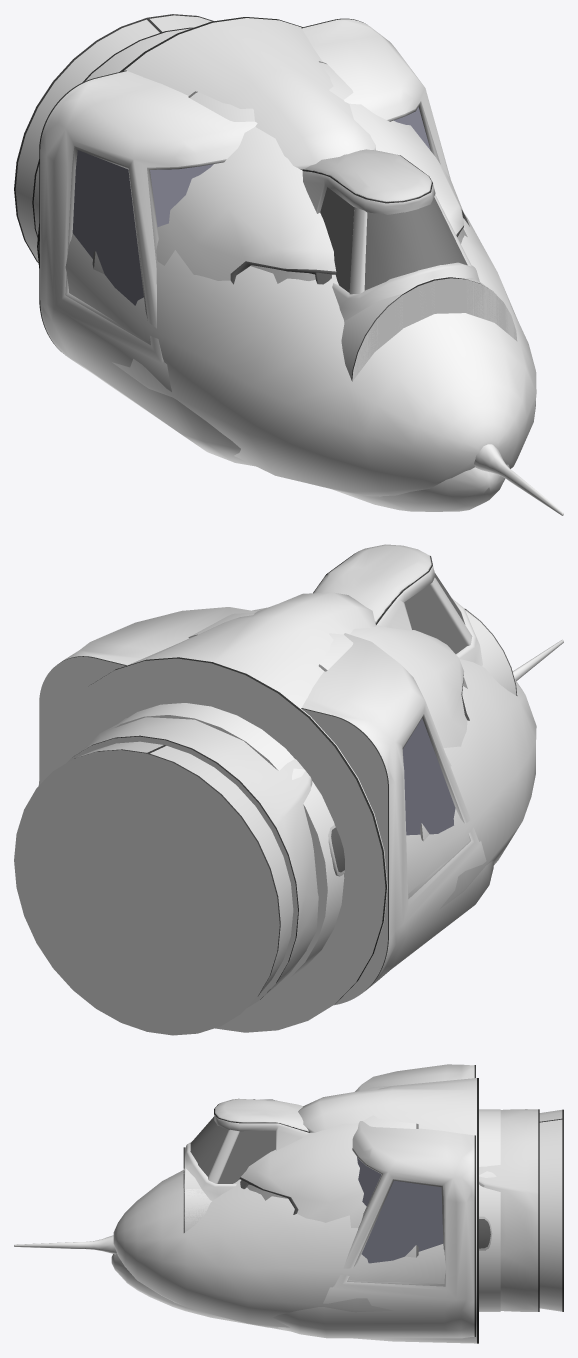
Rendered from Parts_Cockpits.glb.
3 views of the same model, one above another, from view 1: azimuth 30°, elevation 25°; view 2: azimuth 150°, elevation 25°; view 3: azimuth 270°, elevation 25° (orthographic). The views are drawn at different scales.
Visible parts, largest first — view 1: HugeCockpit__0, HelicopterCockpit__1, JetlineCockpit__2, Cockpit__0, HelicopterCockpit__0, Cockpit__1, Connector__0, HelicopterCockpit__2, SmallLargeCockpit__1, BigCockpit__1, BiplaneCockpit__0, JetCockpit02__0 (+1 smaller); view 2: Connector__0, HugeCockpit__0, HelicopterCockpit__1, BigCockpit__1, Cockpit__0, LargeBody__0, JetlineCockpit__2, HelicopterCockpit__0, Cockpit__1, BiplaneCockpit__0, HelicopterCockpit__2, HugeCockpit__1; view 3: HugeCockpit__0, HelicopterCockpit__1, JetlineCockpit__2, BigCockpit__1, HelicopterCockpit__0, Connector__0, Cockpit__0, LargeBody__0, Cockpit__1, HelicopterCockpit__2, SmallLargeCockpit__1, JetCockpit02__0 (+2 smaller).
Boxes of the visible parts, left/top/right/bottom form: HugeCockpit__0: left=38, top=18, right=536, bottom=496; HelicopterCockpit__1: left=40, top=19, right=450, bottom=466; JetlineCockpit__2: left=94, top=62, right=510, bottom=511; Cockpit__0: left=302, top=149, right=517, bottom=381; HelicopterCockpit__0: left=72, top=107, right=430, bottom=305; Cockpit__1: left=320, top=187, right=467, bottom=292; Connector__0: left=14, top=14, right=213, bottom=262; HelicopterCockpit__2: left=39, top=18, right=440, bottom=351; SmallLargeCockpit__1: left=352, top=280, right=515, bottom=380; BigCockpit__1: left=32, top=27, right=192, bottom=237; BiplaneCockpit__0: left=341, top=278, right=490, bottom=381; JetCockpit02__0: left=474, top=444, right=563, bottom=515; Connector__0: left=14, top=741, right=293, bottom=1035; HugeCockpit__0: left=38, top=592, right=536, bottom=1032; HelicopterCockpit__1: left=39, top=607, right=494, bottom=1005; BigCockpit__1: left=67, top=717, right=318, bottom=1007; Cockpit__0: left=313, top=544, right=482, bottom=665; LargeBody__0: left=115, top=703, right=344, bottom=987; JetlineCockpit__2: left=189, top=607, right=467, bottom=841; HelicopterCockpit__0: left=403, top=718, right=455, bottom=835; Cockpit__1: left=404, top=573, right=467, bottom=653; BiplaneCockpit__0: left=465, top=609, right=517, bottom=695; HelicopterCockpit__2: left=62, top=656, right=470, bottom=989; HugeCockpit__1: left=91, top=657, right=386, bottom=1003; HugeCockpit__0: left=113, top=1078, right=476, bottom=1343; HelicopterCockpit__1: left=273, top=1064, right=474, bottom=1338; JetlineCockpit__2: left=111, top=1086, right=416, bottom=1327; BigCockpit__1: left=479, top=1109, right=539, bottom=1311; HelicopterCockpit__0: left=357, top=1157, right=443, bottom=1263; Connector__0: left=539, top=1109, right=563, bottom=1311; Cockpit__0: left=183, top=1098, right=309, bottom=1200; LargeBody__0: left=479, top=1109, right=500, bottom=1311; Cockpit__1: left=190, top=1116, right=275, bottom=1183; HelicopterCockpit__2: left=347, top=1065, right=475, bottom=1336; SmallLargeCockpit__1: left=185, top=1189, right=211, bottom=1232; JetCockpit02__0: left=14, top=1235, right=116, bottom=1254.
Size of the model in its own units: 2.1 by 2.1 by 4.34.
Materials: 68 (13 with a texture image).
